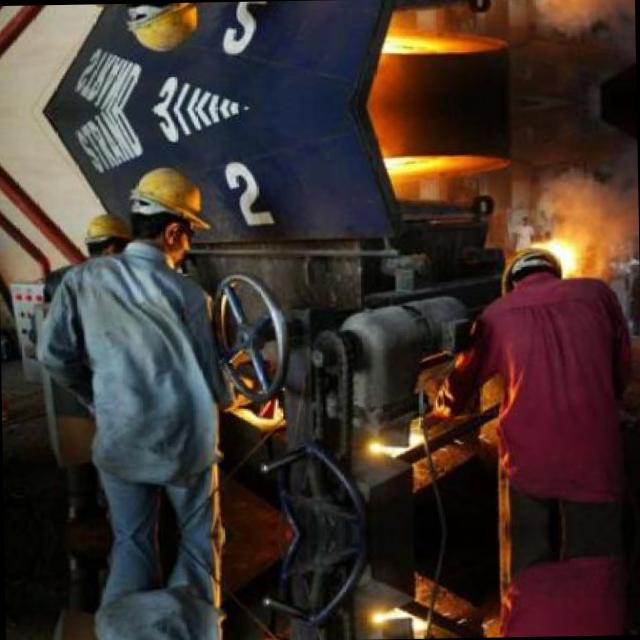helmet: (126, 158, 208, 262), (496, 238, 580, 310), (124, 2, 206, 60), (82, 213, 130, 258)
